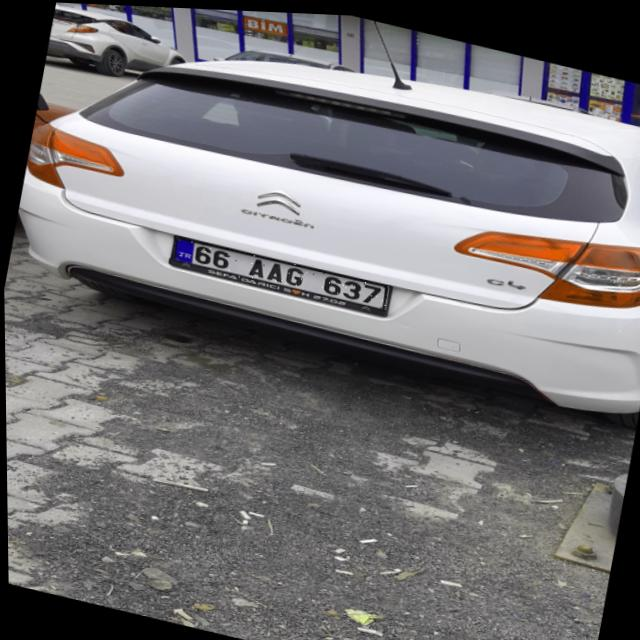license_plate: (167, 233, 389, 309)
